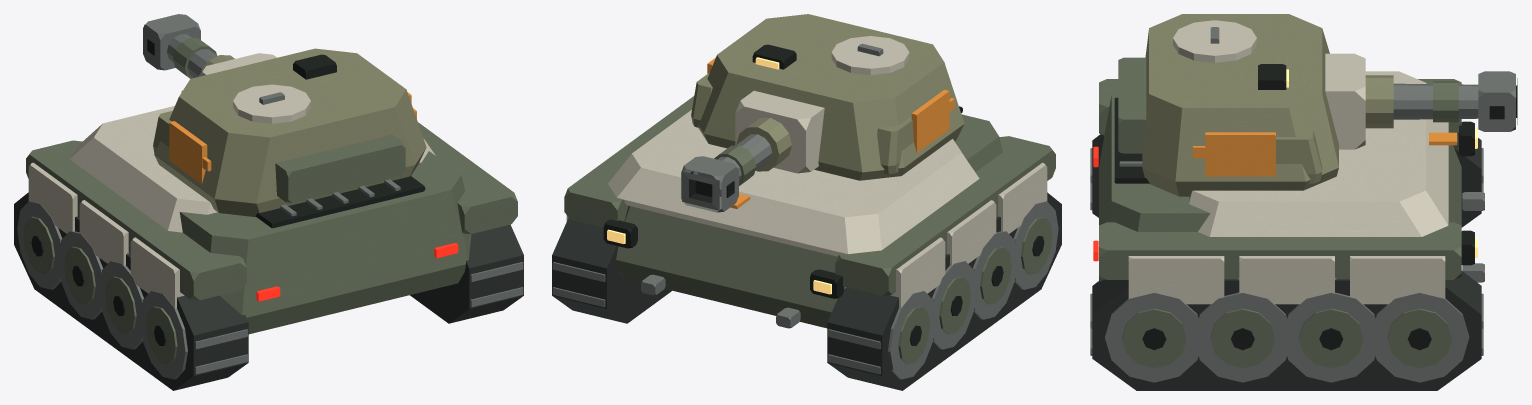
Rendered from tank.glb.
3 views of the same model, side by side, from view 1: azimuth 30°, elevation 25°; view 2: azimuth 150°, elevation 25°; view 3: azimuth 270°, elevation 25° (orthographic). The views are drawn at different scales.
Parts seen in each view (by area): view 1: tank_body, tank_turret, tank_track_L, tank_track_R, tank_barrel, tank_mantlet; view 2: tank_body, tank_turret, tank_track_L, tank_track_R, tank_barrel, tank_mantlet; view 3: tank_body, tank_track_R, tank_turret, tank_barrel, tank_mantlet, tank_track_L.
Boxes of the visible parts, <box> form: tank_body: <box>26,90,517,334</box>; tank_turret: <box>153,48,426,217</box>; tank_track_L: <box>14,192,248,390</box>; tank_track_R: <box>410,224,523,323</box>; tank_barrel: <box>143,14,234,78</box>; tank_mantlet: <box>198,53,276,76</box>; tank_body: <box>564,96,1055,328</box>; tank_turret: <box>691,14,964,180</box>; tank_track_L: <box>827,192,1061,390</box>; tank_track_R: <box>552,218,671,323</box>; tank_barrel: <box>681,117,791,212</box>; tank_mantlet: <box>735,90,824,173</box>; tank_body: <box>1093,71,1484,304</box>; tank_track_R: <box>1090,271,1483,390</box>; tank_turret: <box>1118,14,1338,196</box>; tank_barrel: <box>1365,71,1517,131</box>; tank_mantlet: <box>1325,53,1365,149</box>; tank_track_L: <box>1090,134,1483,227</box>.
Bounding box in the file's own units: 0.8928 × 0.5881 × 0.8928.
Materials: 1 (1 with a texture image).
